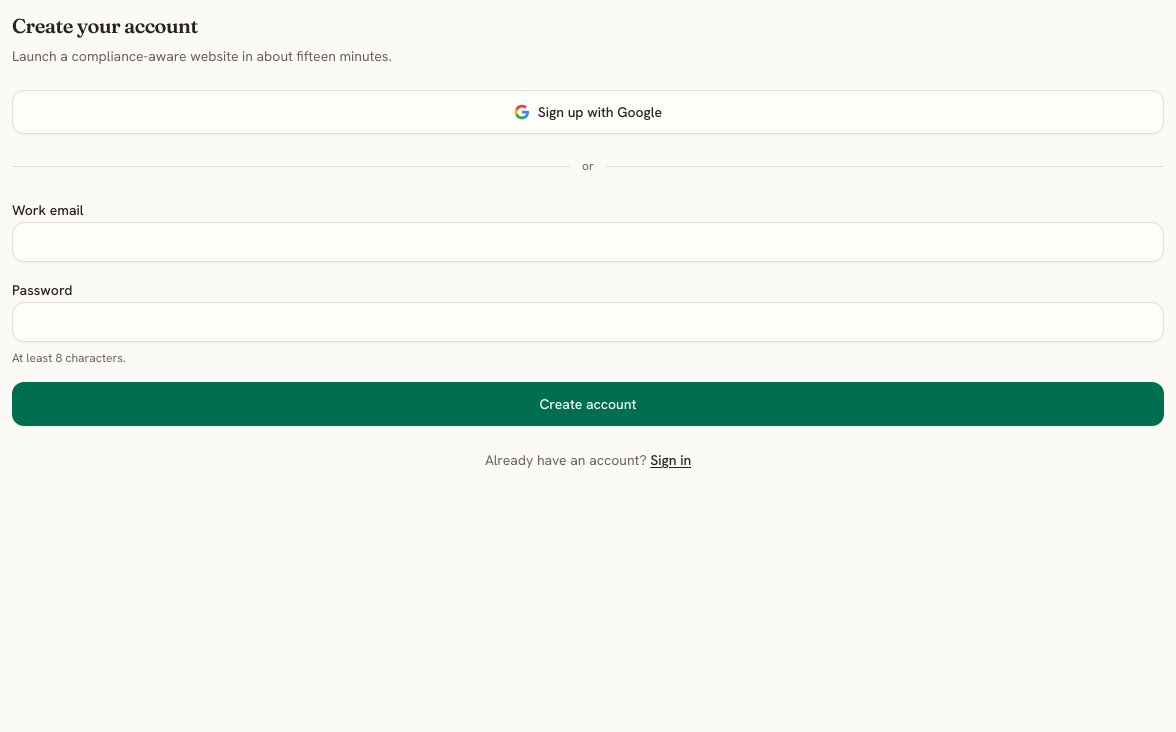
Test case: <SignupForm /> › shows the §4.7 neutral message (with sign-in + reset links) for an existing account
Type "existing@example.com" into the field labelled "Work email" at (588, 242), box [12, 222, 1164, 262]
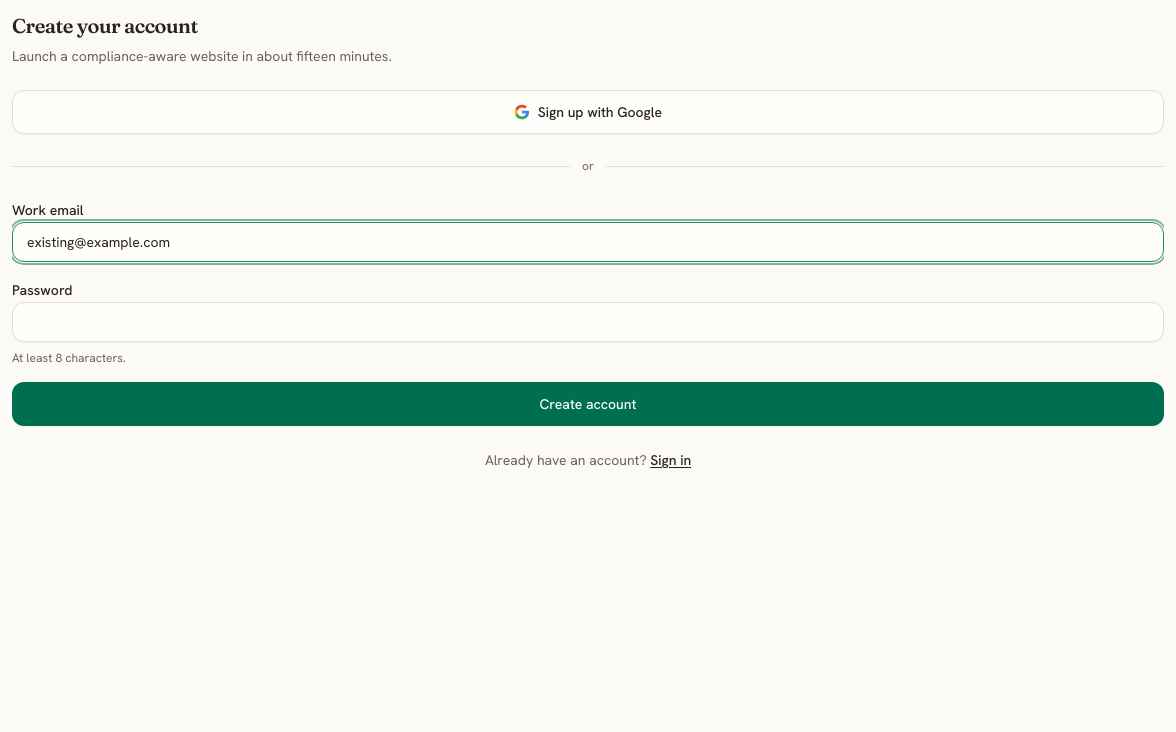
Type "hunter22" into the password field labelled "Password" at (588, 322), box [12, 302, 1164, 342]
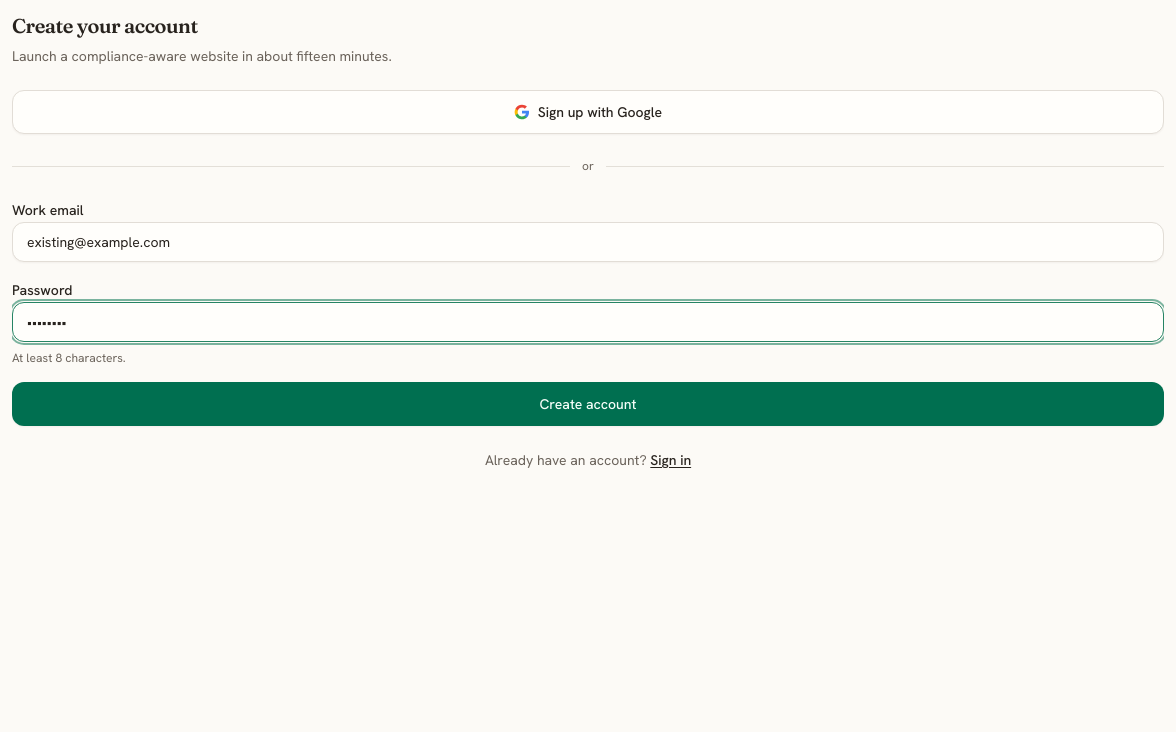
Click the button "Create account" at (588, 404), box [12, 382, 1164, 426]
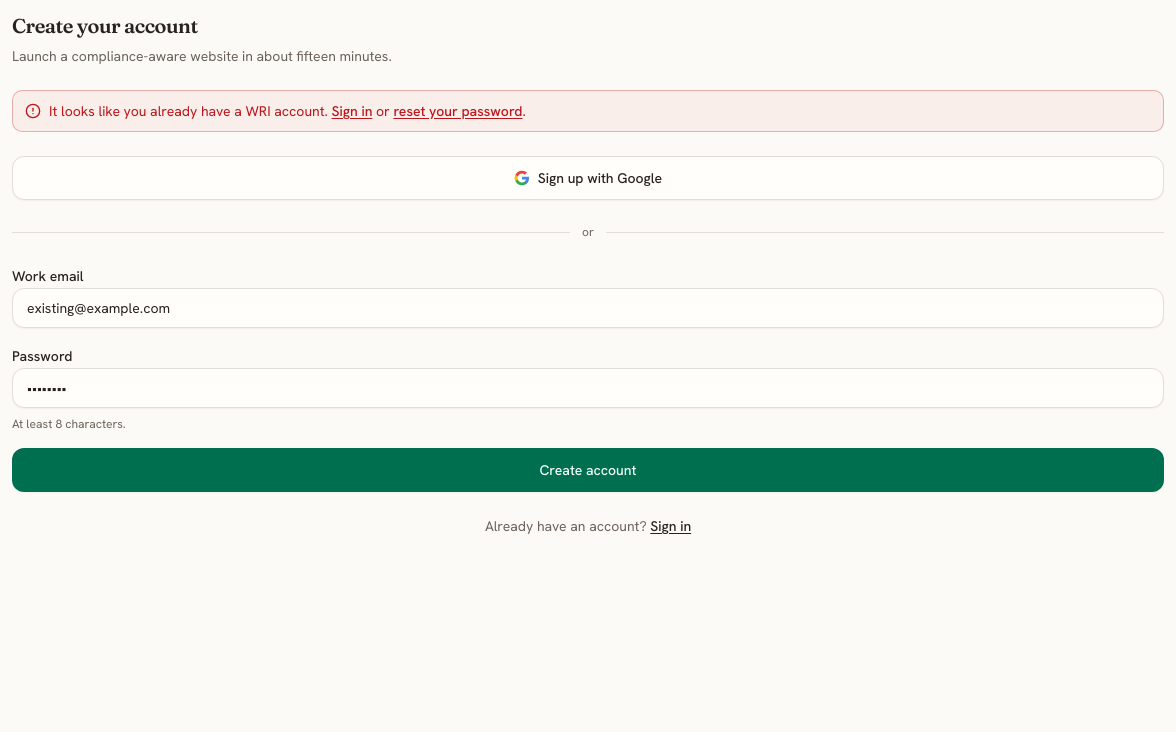
Now the message shows "already have a WRI account", box [49, 102, 328, 120]
